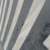zebra: (1, 1, 46, 50)
